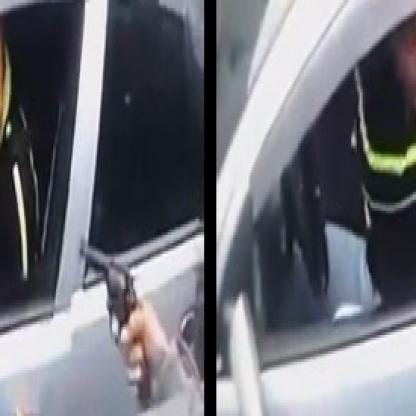gun: (77, 238, 152, 408)
